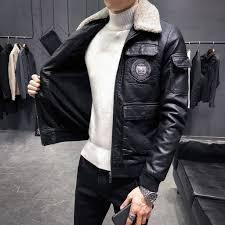jacket: (26, 0, 193, 198)
